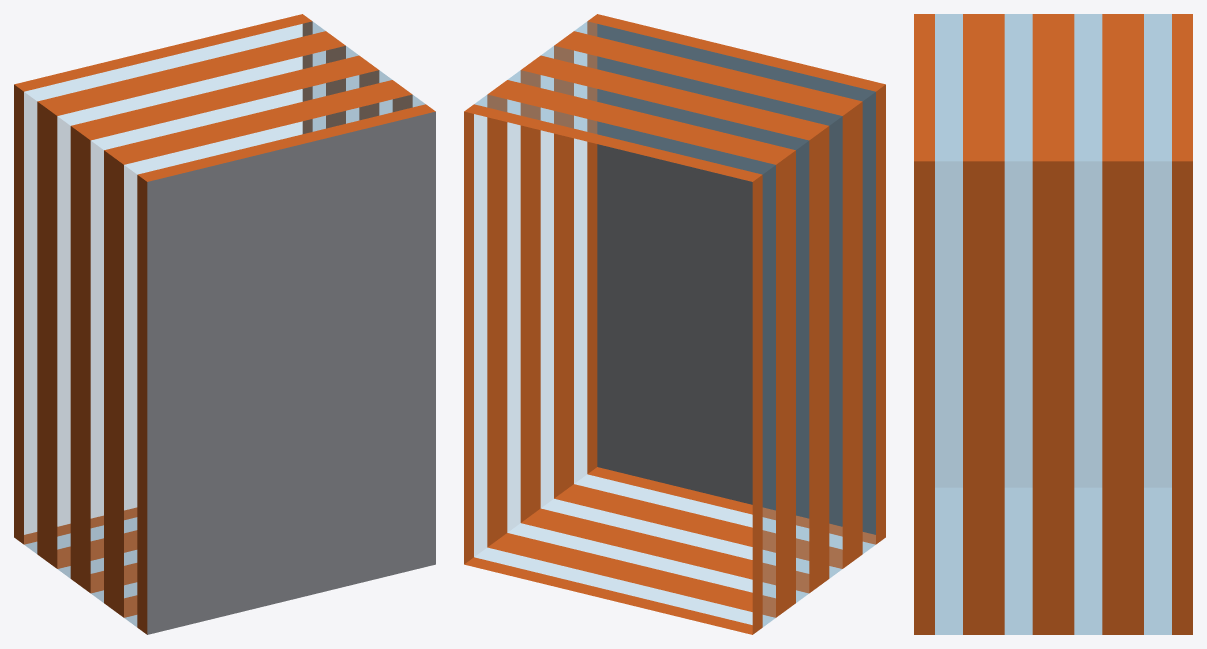
3 views of the same model, side by side, from view 1: azimuth 30°, elevation 25°; view 2: azimuth 150°, elevation 25°; view 3: azimuth 270°, elevation 25° (orthographic). The views are drawn at different scales.
Parts seen in each view (by area): view 1: Atap_Beton, A-WALL_Paint_-_Orange, A-WALL_Glass_-_Clear; view 2: A-WALL_Paint_-_Orange, Atap_Beton, A-WALL_Glass_-_Clear; view 3: A-WALL_Paint_-_Orange, A-WALL_Glass_-_Clear.
Part boxes in pixels (<box>): Atap_Beton: <box>147,111,435,634</box>; A-WALL_Paint_-_Orange: <box>14,14,435,634</box>; A-WALL_Glass_-_Clear: <box>24,21,424,626</box>; A-WALL_Paint_-_Orange: <box>464,14,885,634</box>; Atap_Beton: <box>597,24,875,534</box>; A-WALL_Glass_-_Clear: <box>474,21,875,626</box>; A-WALL_Paint_-_Orange: <box>914,14,1192,634</box>; A-WALL_Glass_-_Clear: <box>935,14,1171,634</box>.
Bounding box in the file's own units: 20 × 30 × 16.
